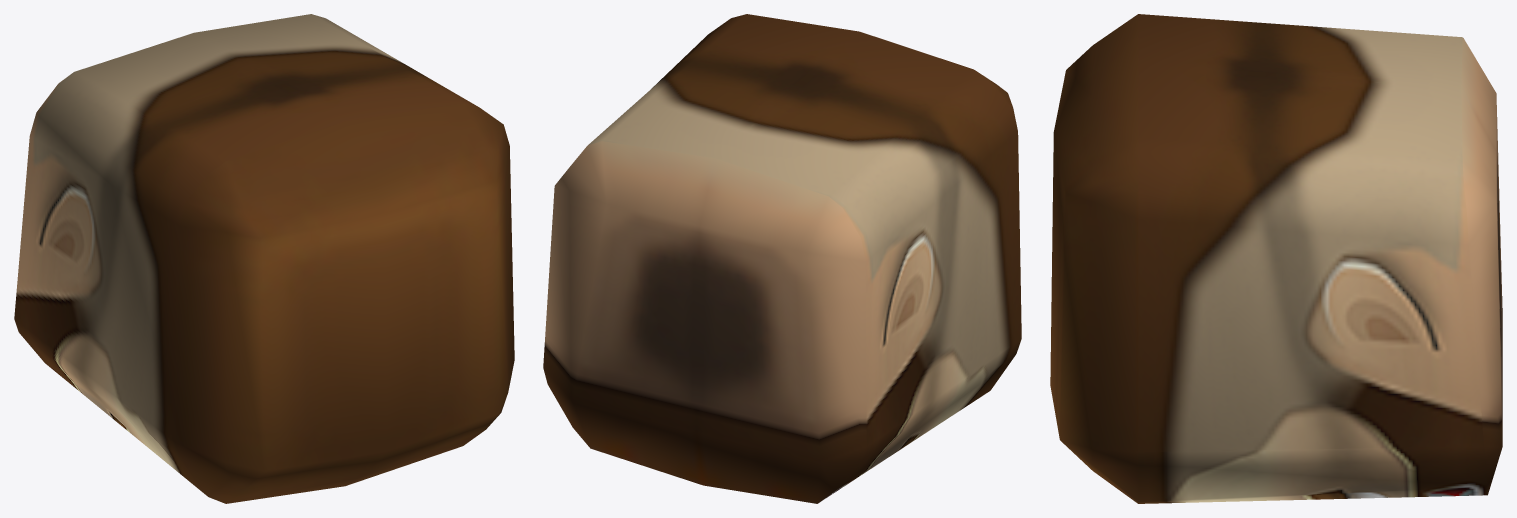
The model's file is Avatar_Joe_H_Head_2_bde8a886__Avatar_Joe_B_0d8e8e4e_c1f257.obj.
The picture shows the model from 3 angles, left to right: view 1: azimuth 30°, elevation 25°; view 2: azimuth 150°, elevation 25°; view 3: azimuth 270°, elevation 25°; orthographic projection. The views are drawn at different scales.
Size of the model in its own units: 0.6857 by 0.7049 by 0.7416.
1 material, 1 textured.
